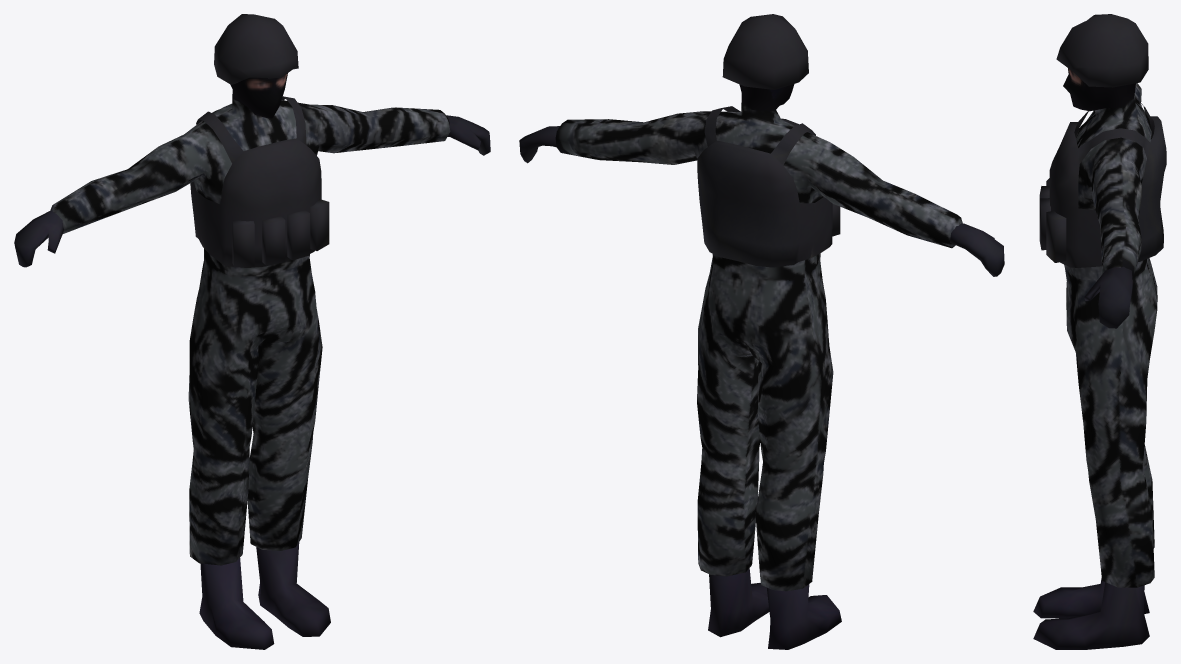
Rendered from Soldier.fbx.
The picture shows the model from 3 angles, left to right: view 1: azimuth 30°, elevation 25°; view 2: azimuth 150°, elevation 25°; view 3: azimuth 270°, elevation 25°; orthographic projection.
Parts seen in each view (by area): view 1: Soldier_Model; view 2: Soldier_Model; view 3: Soldier_Model.
Boxes of the visible parts, left/top/right/bottom form: Soldier_Model: left=14, top=14, right=490, bottom=649; Soldier_Model: left=519, top=14, right=1004, bottom=649; Soldier_Model: left=1033, top=14, right=1166, bottom=649.
Bounding box in the file's own units: 154 × 37.16 × 188.
